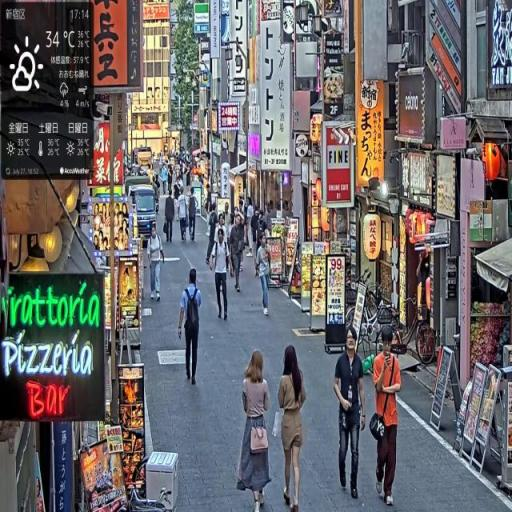person: (365, 324, 408, 506), (333, 326, 370, 508), (274, 342, 313, 512), (237, 348, 273, 512), (178, 269, 207, 392), (212, 231, 237, 322), (231, 211, 253, 295), (148, 225, 167, 305), (256, 234, 274, 318), (253, 212, 275, 265), (186, 187, 203, 243), (178, 186, 191, 246), (215, 215, 228, 272), (164, 190, 175, 243)
